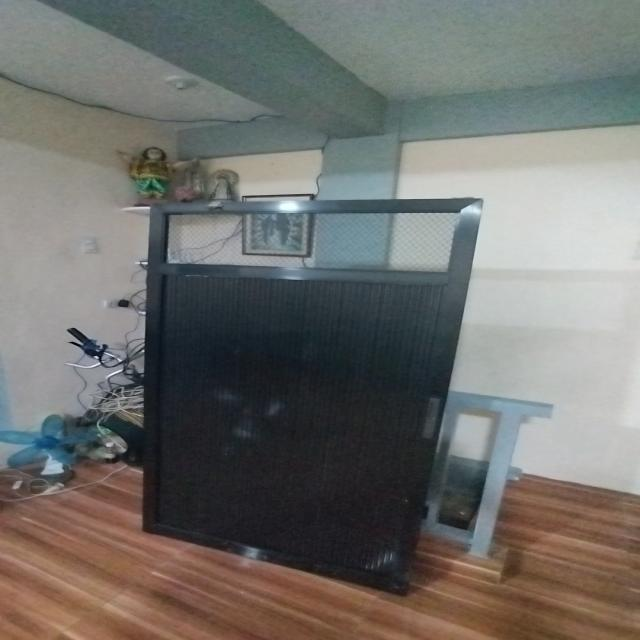door: (138, 195, 457, 583)
